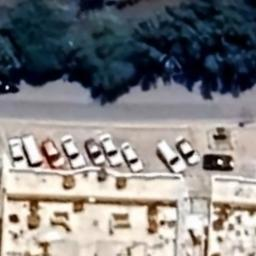SUV: (42, 137, 64, 169)
sedan: (57, 133, 88, 171), (98, 133, 125, 169), (118, 140, 144, 174), (3, 135, 27, 168), (176, 134, 200, 166), (84, 134, 104, 166)
unknown: (201, 150, 238, 176)
van: (151, 138, 187, 176)
